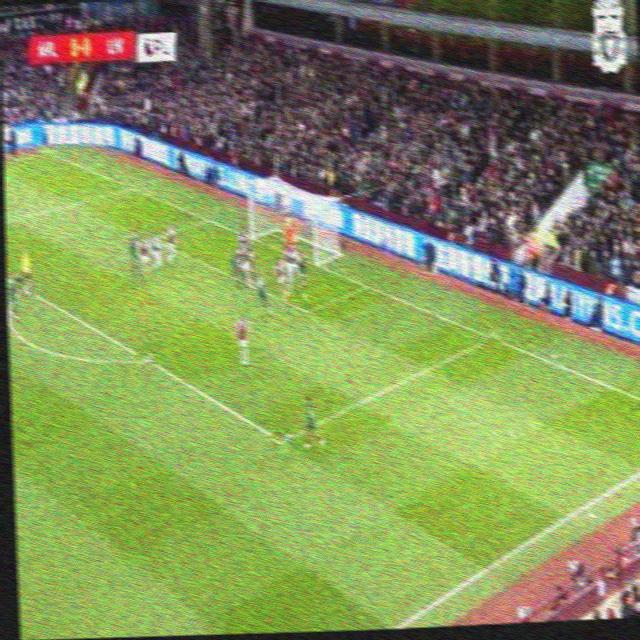bigarea_bottom_inner: (269, 427, 291, 451)
bigarea_bottom_outter: (482, 326, 500, 346)
bigarea_top_outter: (122, 179, 137, 194)
bottom_arc_area_intersection: (136, 347, 153, 369)
corner: (38, 145, 55, 159)
smallarea_bottom_inner: (297, 297, 314, 320)
smallarea_bottom_outter: (356, 277, 374, 293)
smallarea_top_outter: (198, 210, 214, 228)
top_arc_area_intersection: (15, 278, 30, 294)
